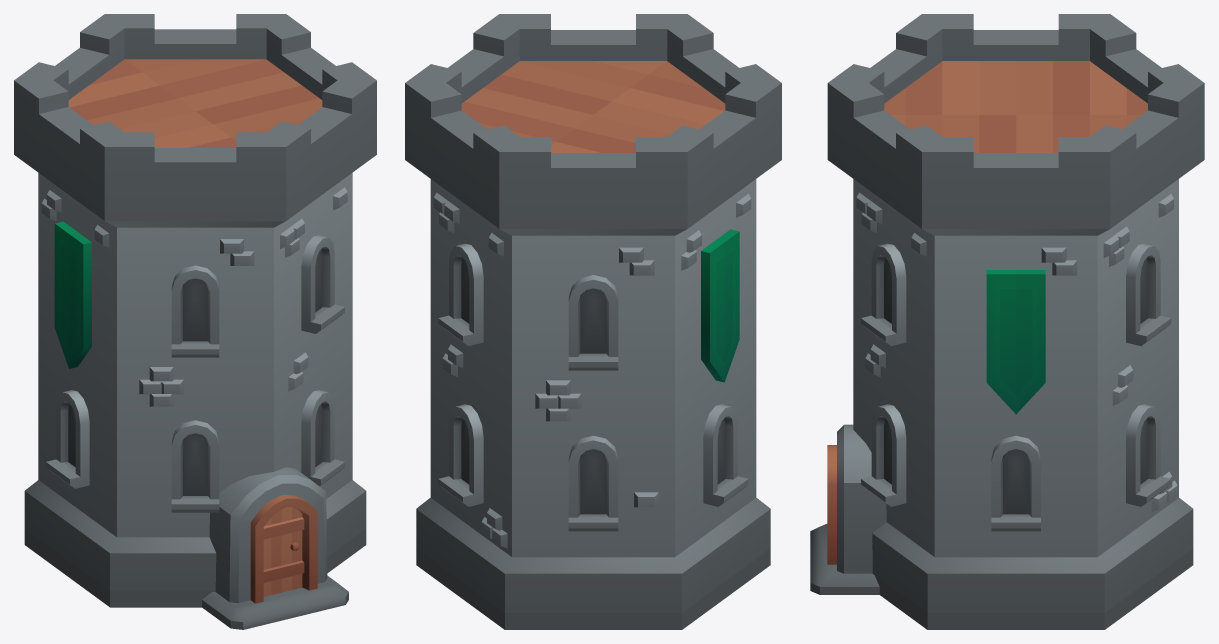
The model's file is building_tower_base_green.gltf.
The picture shows the model from 3 angles, left to right: view 1: azimuth 30°, elevation 25°; view 2: azimuth 150°, elevation 25°; view 3: azimuth 270°, elevation 25°; orthographic projection. The views are drawn at different scales.
Parts seen in each view (by area): view 1: building_tower_base_green; view 2: building_tower_base_green; view 3: building_tower_base_green.
Boxes of the visible parts, left/top/right/bottom form: building_tower_base_green: left=14, top=14, right=376, bottom=629; building_tower_base_green: left=405, top=14, right=781, bottom=629; building_tower_base_green: left=810, top=14, right=1204, bottom=629.
Bounding box in the file's own units: 0.9298 × 1.5 × 1.11.
Materials: 1 (1 with a texture image).
